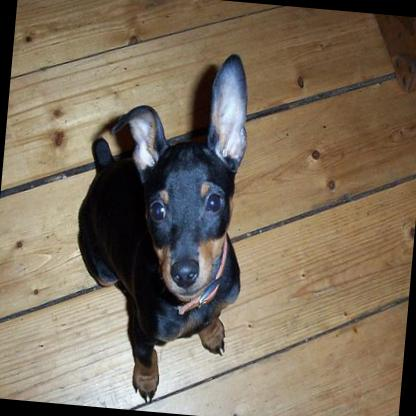miniature_pinscher: (63, 41, 262, 406)
